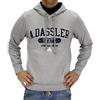abbigliamento_uomo: (9, 3, 92, 90)
